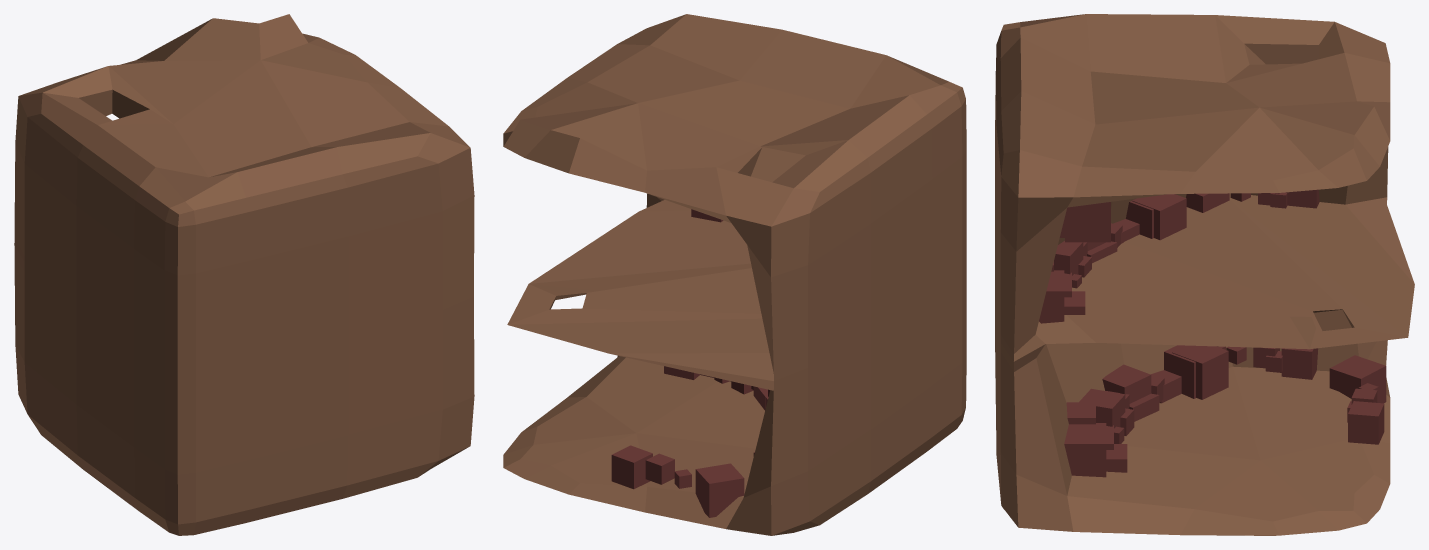
3 renders of one model, left to right at view 1: azimuth 30°, elevation 25°; view 2: azimuth 150°, elevation 25°; view 3: azimuth 270°, elevation 25°, orthographic. The views are drawn at different scales.
Parts seen in each view (by area): view 1: Cube.002; view 2: Cube.002, Cube.005, Cube.003; view 3: Cube.002, Cube.003, Cube.016, Cube.005, Cube.004, Cube.023.
Boxes of the visible parts, x1,y1,x2,y2 form: Cube.002: (14,14,474,535); Cube.002: (503,14,966,535); Cube.005: (611,445,744,517); Cube.003: (664,366,770,456); Cube.002: (995,14,1414,535); Cube.003: (1064,345,1318,477); Cube.016: (1039,194,1186,323); Cube.005: (1329,355,1386,444); Cube.004: (1059,202,1110,242); Cube.023: (1186,189,1319,212).
Bounding box in the file's own units: 5164 × 5622 × 5485.
